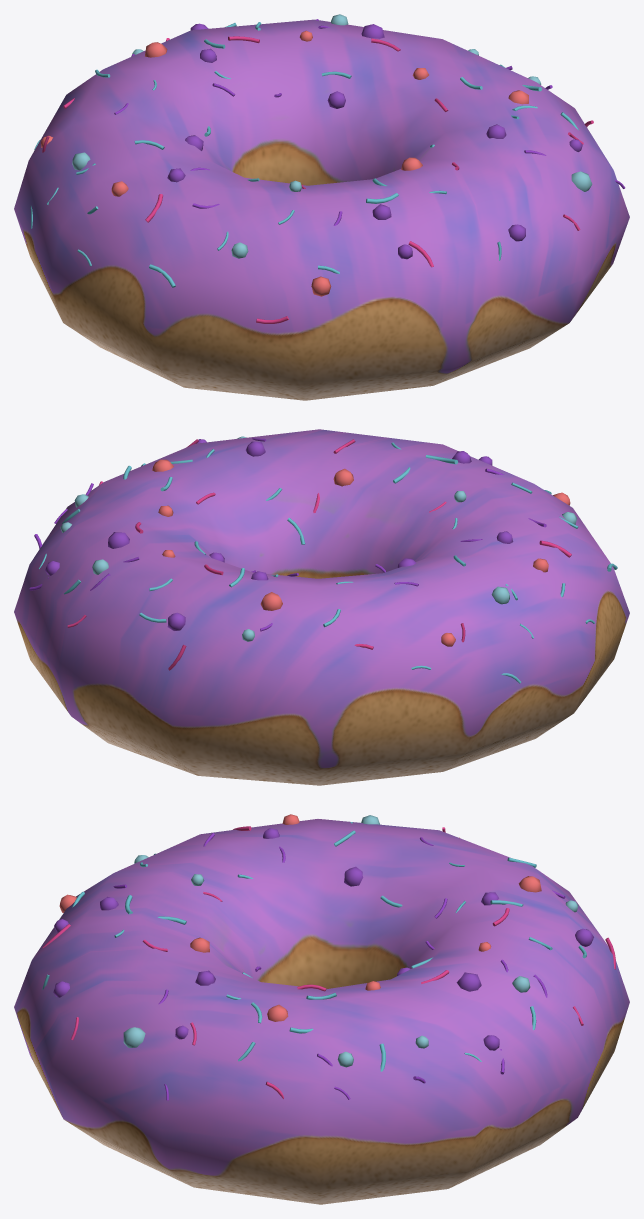
The model's file is Donut.fbx.
3 renders of one model, top to bottom at view 1: azimuth 30°, elevation 25°; view 2: azimuth 150°, elevation 25°; view 3: azimuth 270°, elevation 25°, orthographic. The views are drawn at different scales.
Parts seen in each view (by area): view 1: Donut_low.001; view 2: Donut_low.001; view 3: Donut_low.001.
Boxes of the visible parts, x1,y1,x2,y2 form: Donut_low.001: [14, 14, 629, 400]; Donut_low.001: [14, 429, 629, 785]; Donut_low.001: [14, 814, 629, 1204].
Bounding box in the file's own units: 66.87 × 24.24 × 65.64.
